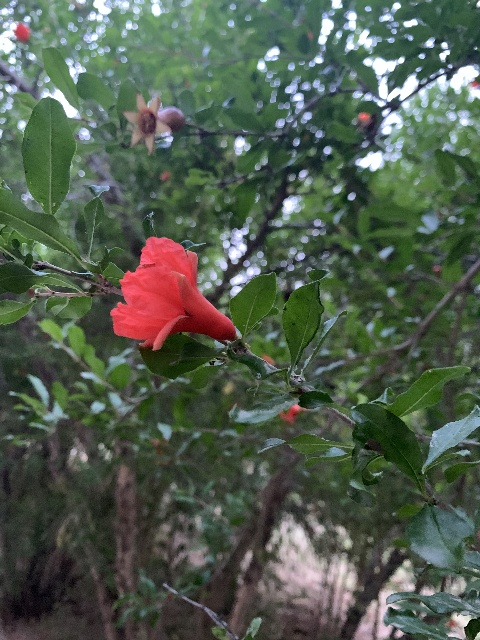early-fruit: (122, 92, 185, 154)
flower: (110, 236, 236, 351)
